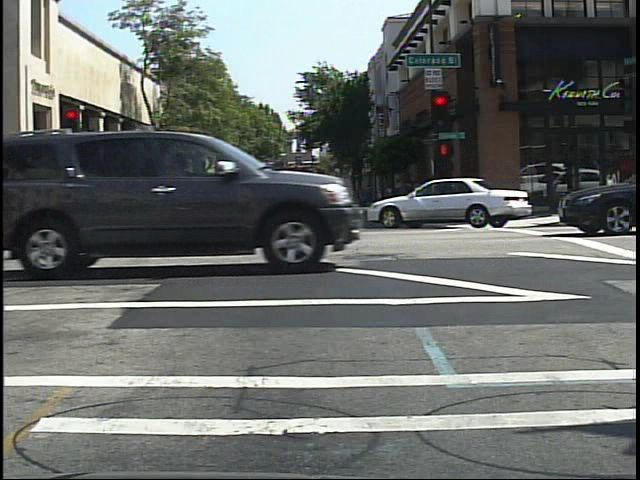person: (106, 180, 125, 224)
